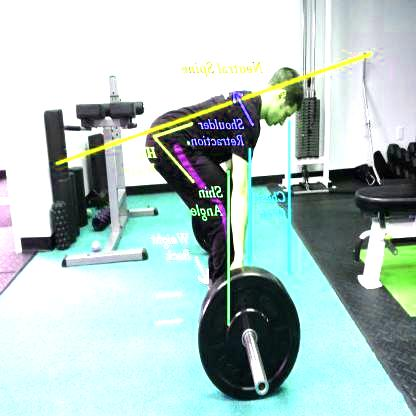Barbell: (251, 378, 268, 398)
